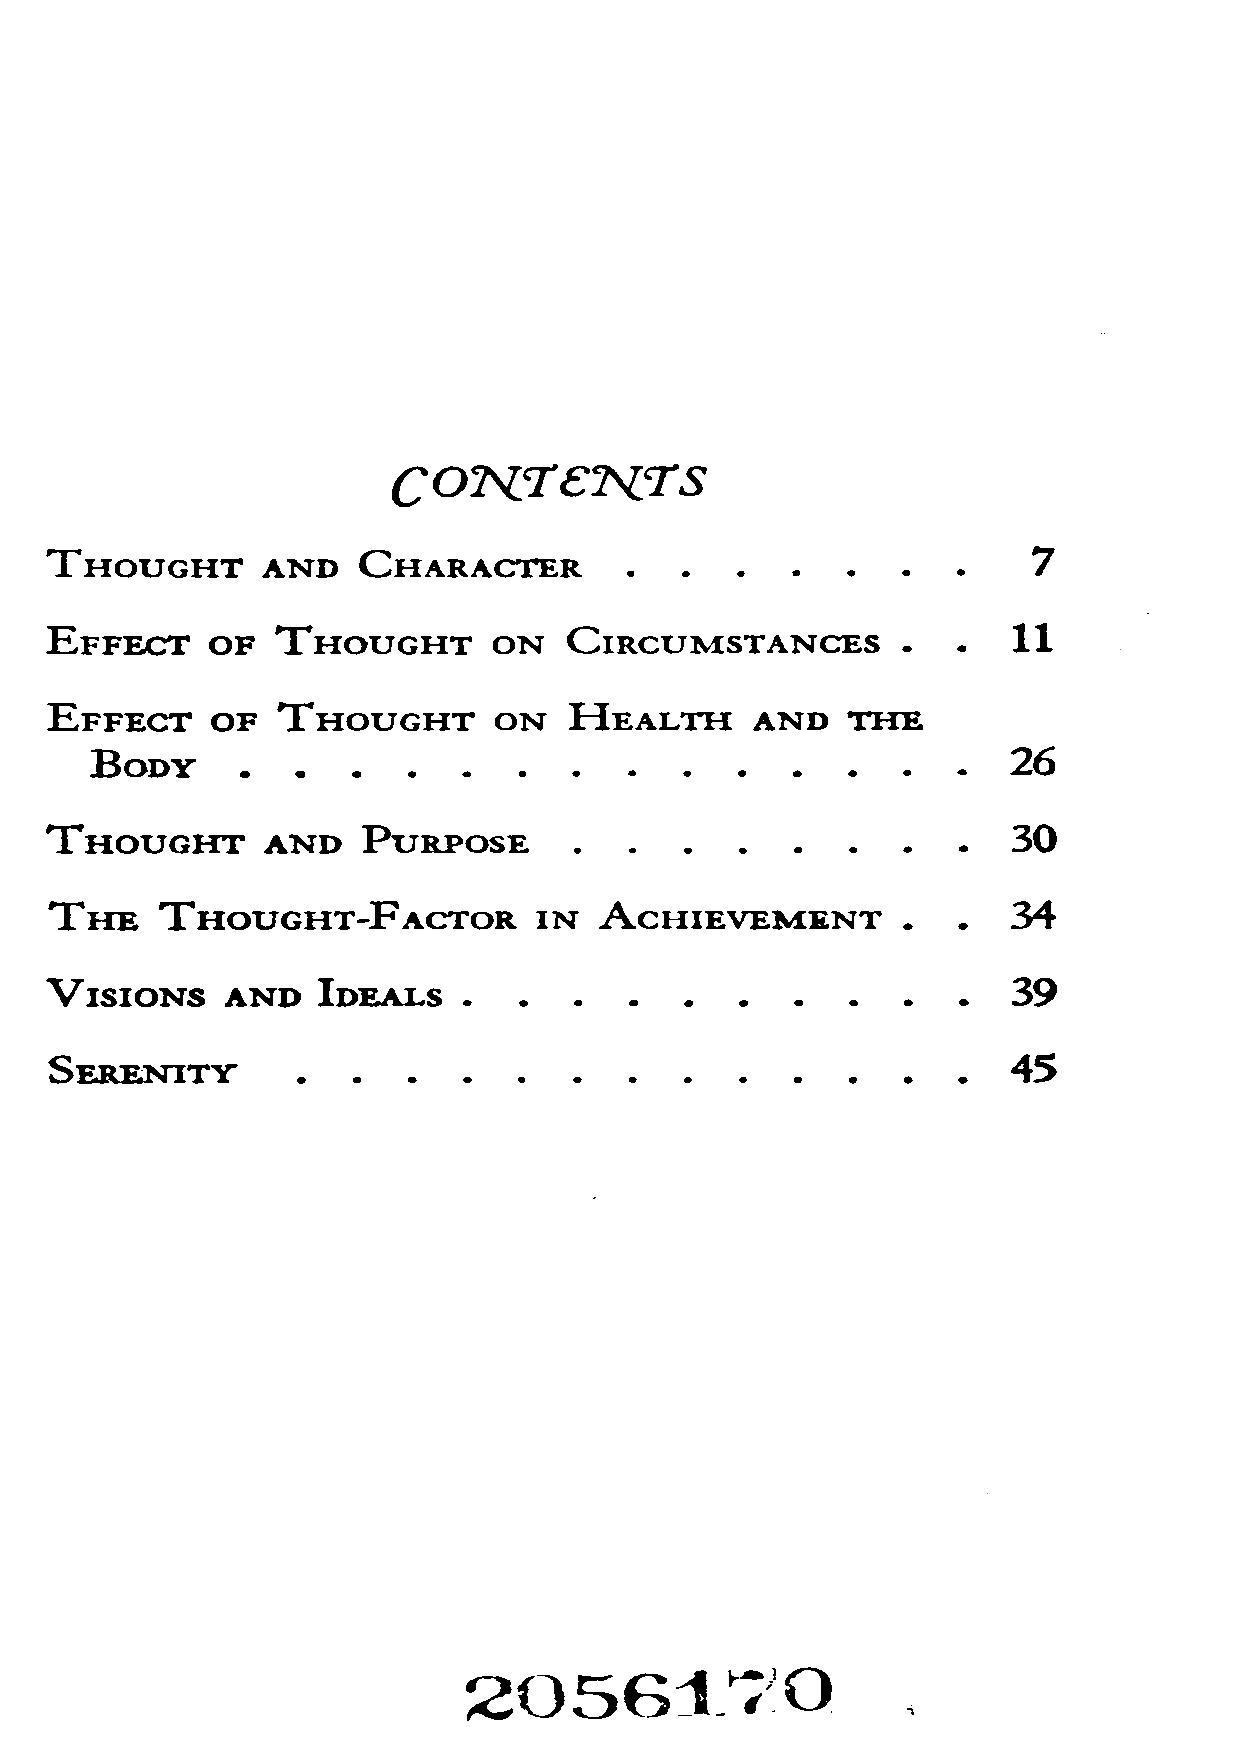TOC_chapter: (42, 695, 927, 782), (47, 892, 883, 938), (48, 619, 884, 663), (43, 541, 582, 595), (36, 820, 534, 863), (43, 972, 450, 1017), (44, 1049, 240, 1086)
TOC_pagenumber: (1011, 1045, 1057, 1087), (1011, 617, 1055, 658), (1013, 896, 1062, 933), (1011, 972, 1055, 1011), (1008, 745, 1059, 778), (1011, 821, 1057, 855), (1023, 531, 1056, 573)
chapter: (386, 462, 705, 513)
